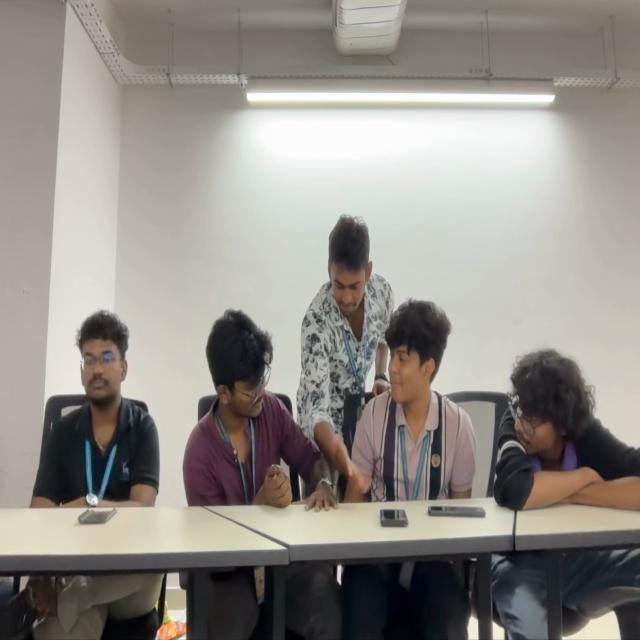Isolated: (36, 313, 159, 504)
socializing: (191, 214, 640, 502)
